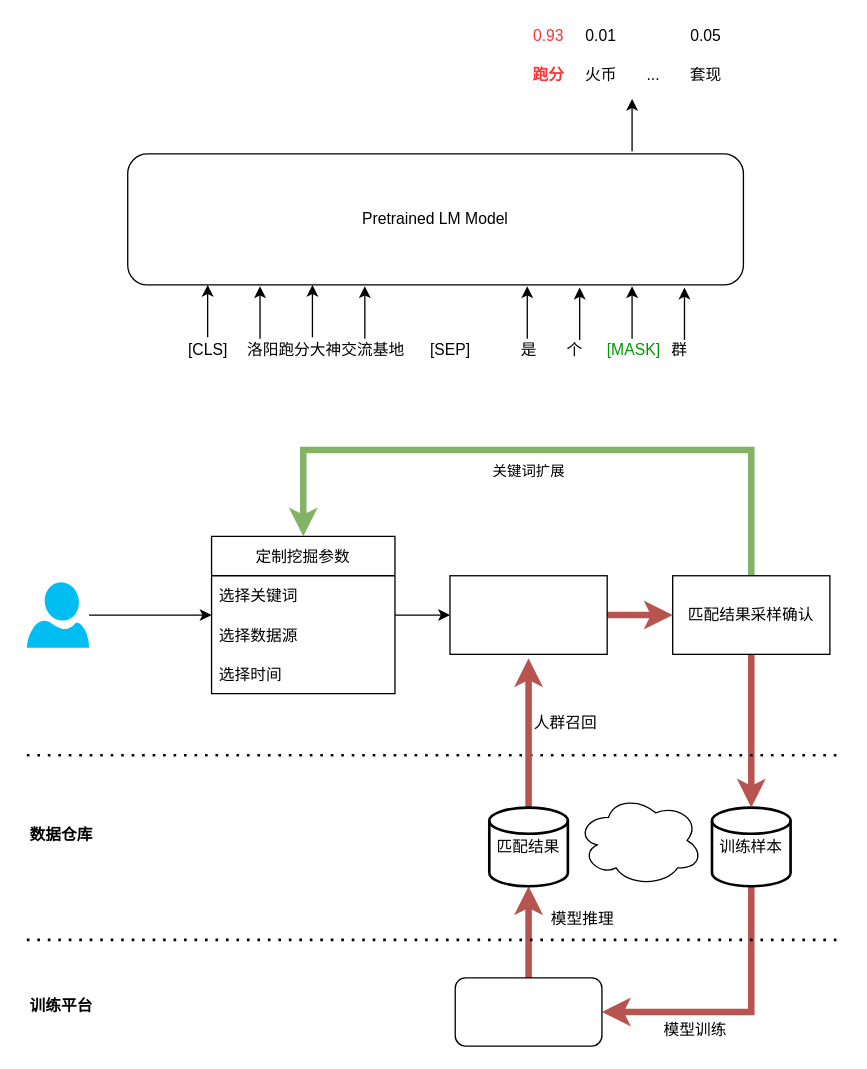
Some shapes in this 867 by 1069 pixel diagram are drawn without their labels. The shapes that lost their labels are listed below. From the top down, each one's centre as x and y in pixels, then its label:
pixel 528 614: 匹配算法
pixel 639 839: 优化循环
pixel 528 1011: 匹配模型
